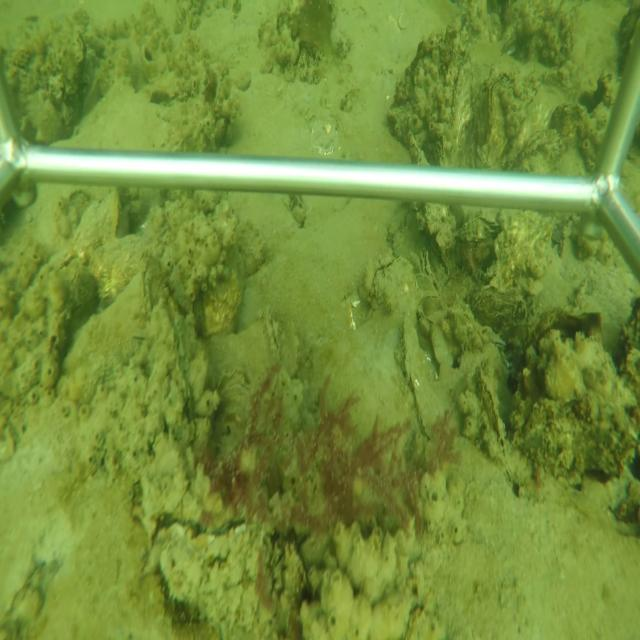Oyster-Closed: (96, 287, 198, 518), (400, 317, 464, 442), (478, 359, 508, 480), (364, 254, 419, 313), (136, 257, 160, 314)
Oyster-Indeterminate: (160, 519, 309, 638)
